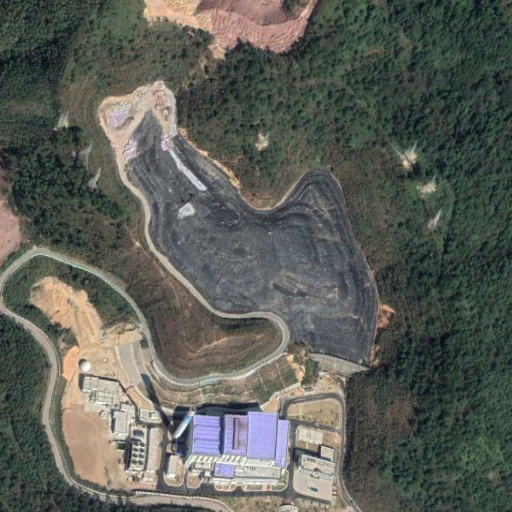lf: (93, 83, 376, 368)
